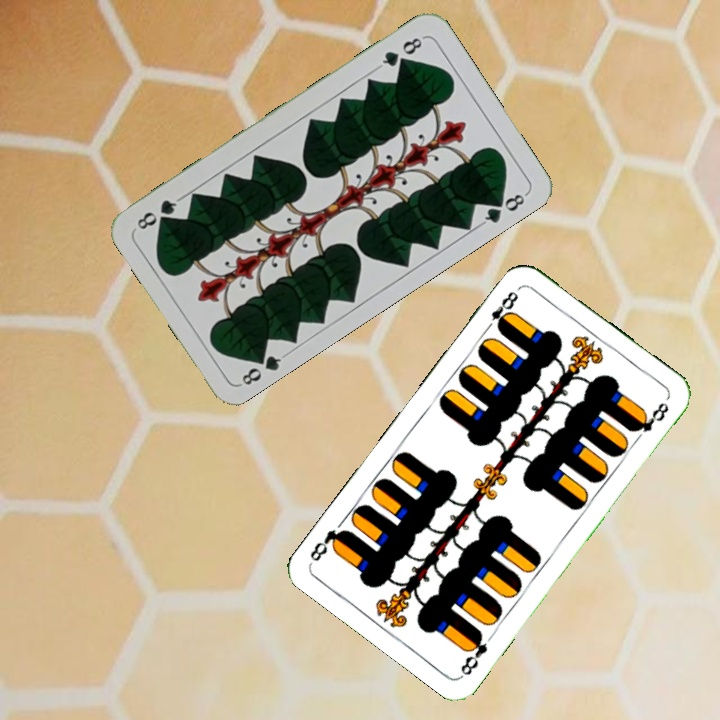E8: (481, 284, 523, 334), (456, 627, 490, 679)
G8: (235, 346, 289, 388), (374, 33, 427, 71)
